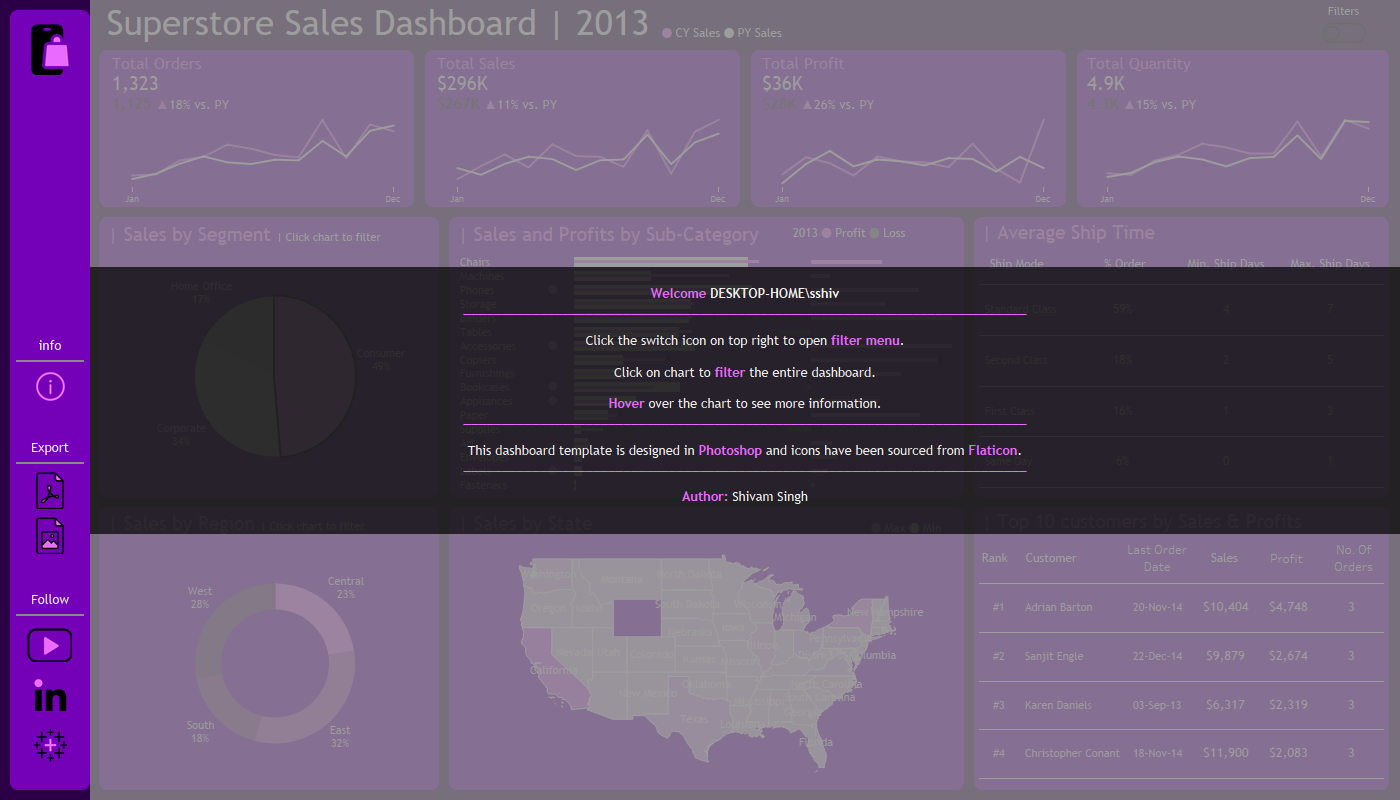

The dashboard page shown, as its layout file describes it:
{"tool":"tableau","page":{"name":"Sales Dashboard","canvas":[1400,800],"ordinal":0},"visuals":[{"type":"image","param":"D:/SHIVAM/Learn With Shivam/Tableau Dashboard Tutorial- Beginner to Intermediate","box":[0,0,1400,800]},{"type":"blank","box":[90,0,1310,267]},{"type":"text","box":[100,0,1300,46]},{"type":"text","box":[1316,1,55,21]},{"type":"filter","title":"Total Orders KPI","param":"[federated.1rs4rue05h7jap19rui71063v4hk].[none:category:nk]","box":[917,4,100,45]},{"type":"filter","title":"Total Orders KPI","param":"[federated.1rs4rue05h7jap19rui71063v4hk].[none:sub_category:nk]","box":[1017,4,100,45]},{"type":"filter","title":"Total Orders KPI","param":"[federated.1rs4rue05h7jap19rui71063v4hk].[none:state:nk]","box":[1117,4,99,45]},{"type":"parameter","param":"[Parameters].[Parameter 1]","box":[1216,4,99,45]},{"type":"blank","box":[10,10,80,10]},{"type":"image","param":"D:/SHIVAM/Learn With Shivam/Tableau Dashboard Tutorial- Beginner to Intermediate","box":[10,20,80,59]},{"type":"dashboard-object","box":[1321,21,45,23]},{"type":"text","box":[659,22,126,24]},{"type":"worksheet","title":"Total Orders KPI","mark":"Automatic","box":[108,54,309,61]},{"type":"worksheet","title":"Total Sales KPI","mark":"Automatic","box":[433,54,309,61]},{"type":"worksheet","title":"Total Profit KPI","mark":"Automatic","box":[758,54,309,61]},{"type":"worksheet","title":"Total Quantity KPI","mark":"Automatic","box":[1083,54,309,61]},{"type":"blank","box":[10,79,80,257]},{"type":"worksheet","title":"MOM Orders","mark":"Line","rows":["Calculation_852869205284057090","CY Orders (copy)_852869205284253699"],"cols":["order_date"],"box":[108,115,309,90]},{"type":"worksheet","title":"MOM Sales","mark":"Line","rows":["Calculation_852869205287362570","CY Sales (copy)_852869205287477259"],"cols":["order_date"],"box":[433,115,309,90]},{"type":"worksheet","title":"MOM Profit","mark":"Line","rows":["Calculation_852869205286715398","CY Profit (copy)_852869205286846471"],"cols":["order_date"],"box":[758,115,309,90]},{"type":"worksheet","title":"MOM Quantity","mark":"Line","rows":["Calculation_852869205292703760","CY Quantity (copy)_852869205292847121"],"cols":["order_date"],"box":[1083,115,309,90]},{"type":"worksheet","title":"Sales/Profits by Segment","mark":"Pie","rows":["Calculation_852869205306703895","Calculation_852869205306728473"],"box":[100,213,350,289]},{"type":"worksheet","title":"Sales/Profits by Sub-Category","mark":"Bar","rows":["sub_category","Calculation_852869205319745563"],"cols":["CY Sales (copy)_852869205287477259","Calculation_852869205287362570","Calculation_852869205286715398"],"box":[450,213,515,289]},{"type":"text","box":[975,217,413,31]},{"type":"text","box":[790,223,122,22]},{"type":"text","box":[979,248,90,32]},{"type":"text","box":[1069,248,112,32]},{"type":"text","box":[1181,248,103.5,32]},{"type":"text","box":[1284.5,248,103.5,32]},{"type":"text","box":[90,267,1310,267]},{"type":"worksheet","title":"Avg Ship Time","mark":"Automatic","rows":["ship_mode"],"box":[975,280,413,218]},{"type":"text","box":[10,336,80,20]},{"type":"blank","box":[10,356,80,10]},{"type":"dashboard-object","box":[10,366,80,40]},{"type":"blank","box":[10,406,80,32]},{"type":"text","box":[10,438,80,20]},{"type":"blank","box":[10,458,80,10]},{"type":"dashboard-object","box":[10,468,80,45]},{"type":"worksheet","title":"Sales/Profits by Region","mark":"Pie","rows":["Calculation_852869205306703895","Calculation_852869205306728473"],"box":[100,502,350,285]},{"type":"worksheet","title":"Sales/Profits by State","mark":"Multipolygon","box":[450,502,515,285]},{"type":"text","box":[975,506,413,31]},{"type":"dashboard-object","box":[10,513,80,45]},{"type":"text","box":[868,518,77,22]},{"type":"blank","box":[90,534,1310,266]},{"type":"text","box":[975,537,44,42]},{"type":"text","box":[1019,537,100,42]},{"type":"text","box":[1119,537,76,42]},{"type":"text","box":[1195,537,59,42]},{"type":"text","box":[1254,537,65,42]},{"type":"text","box":[1318.9,537,69,42]},{"type":"blank","box":[10,558,80,32]},{"type":"worksheet","title":"Top 10 Customers","mark":"Automatic","rows":["Calculation_378302394701783041","customer_name","order_date"],"box":[975,579,413,204]},{"type":"text","box":[10,590,80,20]},{"type":"blank","box":[10,610,80,10]},{"type":"image","param":"D:/SHIVAM/Learn With Shivam/Tableau Dashboard Tutorial- Beginner to Intermediate","box":[10,620,80,50]},{"type":"image","param":"D:/SHIVAM/Learn With Shivam/Tableau Dashboard Tutorial- Beginner to Intermediate","box":[10,670,80,50]},{"type":"image","param":"D:/SHIVAM/Learn With Shivam/Tableau Dashboard Tutorial- Beginner to Intermediate","box":[10,720,80,50]},{"type":"blank","box":[10,770,80,20]}]}

Visuals, with their boxes on the page's 1400x800 design canvas (x1, y1, x2, y2). These are canvas units, not pixel positions in the 1400x800 screenshot, which may show the page scaled, cropped or inside an application window:
image: 0, 0, 1400, 800
blank: 90, 0, 1400, 267
text: 100, 0, 1400, 46
text: 1316, 1, 1371, 22
"Total Orders KPI" filter: 917, 4, 1017, 49
"Total Orders KPI" filter: 1017, 4, 1117, 49
"Total Orders KPI" filter: 1117, 4, 1216, 49
parameter: 1216, 4, 1315, 49
blank: 10, 10, 90, 20
image: 10, 20, 90, 79
dashboard-object: 1321, 21, 1366, 44
text: 659, 22, 785, 46
"Total Orders KPI" worksheet: 108, 54, 417, 115
"Total Sales KPI" worksheet: 433, 54, 742, 115
"Total Profit KPI" worksheet: 758, 54, 1067, 115
"Total Quantity KPI" worksheet: 1083, 54, 1392, 115
blank: 10, 79, 90, 336
"MOM Orders" worksheet (Line marks): 108, 115, 417, 205
"MOM Sales" worksheet (Line marks): 433, 115, 742, 205
"MOM Profit" worksheet (Line marks): 758, 115, 1067, 205
"MOM Quantity" worksheet (Line marks): 1083, 115, 1392, 205
"Sales/Profits by Segment" worksheet (Pie marks): 100, 213, 450, 502
"Sales/Profits by Sub-Category" worksheet (Bar marks): 450, 213, 965, 502
text: 975, 217, 1388, 248
text: 790, 223, 912, 245
text: 979, 248, 1069, 280
text: 1069, 248, 1181, 280
text: 1181, 248, 1284, 280
text: 1284, 248, 1388, 280
text: 90, 267, 1400, 534
"Avg Ship Time" worksheet: 975, 280, 1388, 498
text: 10, 336, 90, 356
blank: 10, 356, 90, 366
dashboard-object: 10, 366, 90, 406
blank: 10, 406, 90, 438
text: 10, 438, 90, 458
blank: 10, 458, 90, 468
dashboard-object: 10, 468, 90, 513
"Sales/Profits by Region" worksheet (Pie marks): 100, 502, 450, 787
"Sales/Profits by State" worksheet (Multipolygon marks): 450, 502, 965, 787
text: 975, 506, 1388, 537
dashboard-object: 10, 513, 90, 558
text: 868, 518, 945, 540
blank: 90, 534, 1400, 800
text: 975, 537, 1019, 579
text: 1019, 537, 1119, 579
text: 1119, 537, 1195, 579
text: 1195, 537, 1254, 579
text: 1254, 537, 1319, 579
text: 1319, 537, 1388, 579
blank: 10, 558, 90, 590
"Top 10 Customers" worksheet: 975, 579, 1388, 783
text: 10, 590, 90, 610
blank: 10, 610, 90, 620
image: 10, 620, 90, 670
image: 10, 670, 90, 720
image: 10, 720, 90, 770
blank: 10, 770, 90, 790
